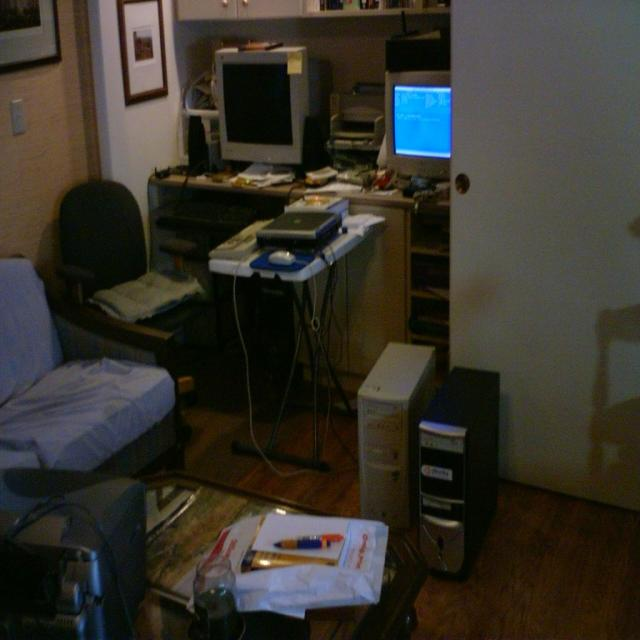chair: (55, 178, 204, 348)
desk: (82, 149, 497, 617)
tv: (212, 45, 310, 167), (385, 69, 451, 178)
